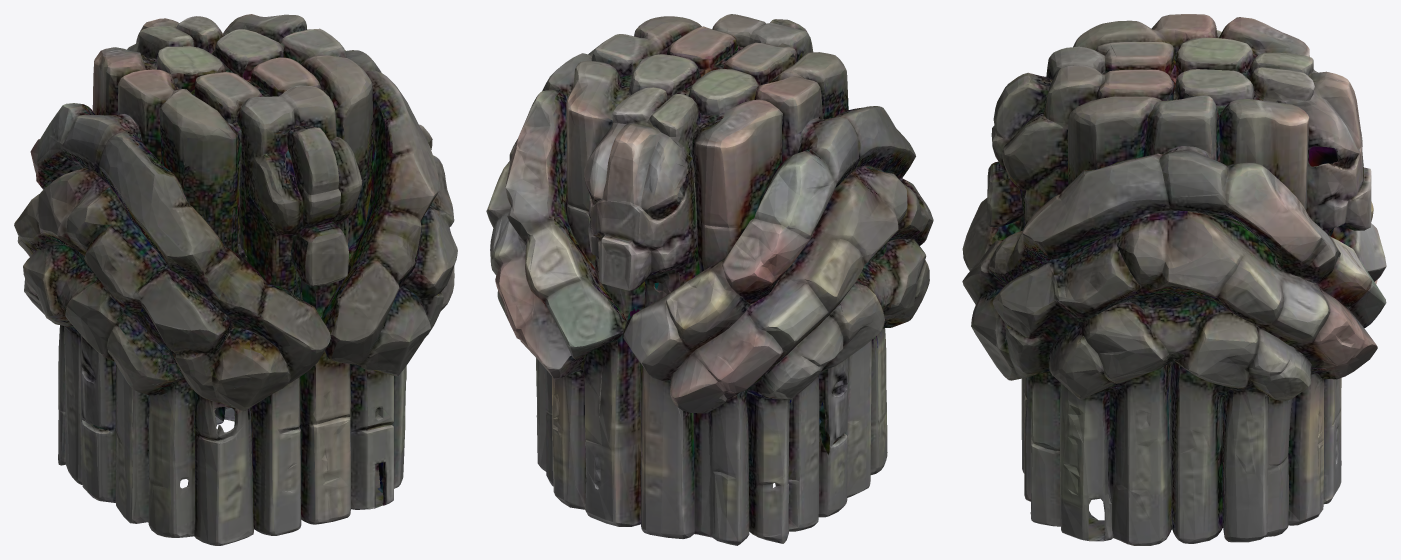
The model's file is basaltSkin.glb.
The picture shows the model from 3 angles, left to right: view 1: azimuth 30°, elevation 25°; view 2: azimuth 150°, elevation 25°; view 3: azimuth 270°, elevation 25°; orthographic projection. The views are drawn at different scales.
Parts seen in each view (by area): view 1: world; view 2: world; view 3: world.
Part boxes in pixels (left/top/right/bottom): world: left=14, top=14, right=457, bottom=545; world: left=486, top=14, right=933, bottom=545; world: left=962, top=14, right=1386, bottom=545.
Bounding box in the file's own units: 0.9225 × 0.9931 × 0.908.
Materials: 1 (1 with a texture image).
